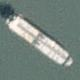ship: (0, 0, 37, 32)
